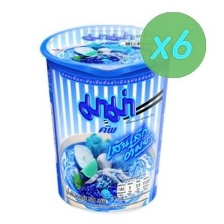paper_cup: (33, 19, 179, 215)
